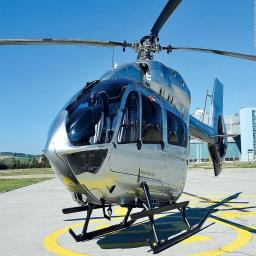helicopter: (37, 6, 241, 255)
